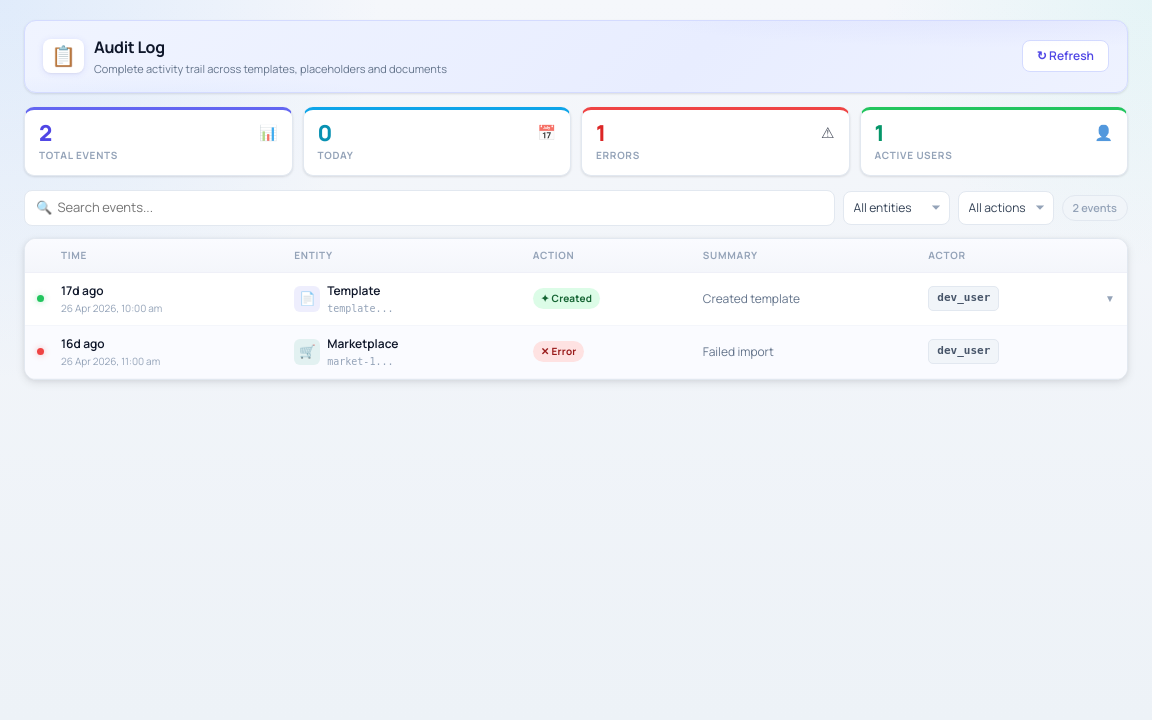
Scenario: AuditLogPage › should_expand_event_details_when_row_has_details
Step 1. Click the text "Created template" → coordinates (751, 298), box [703,290,800,307]
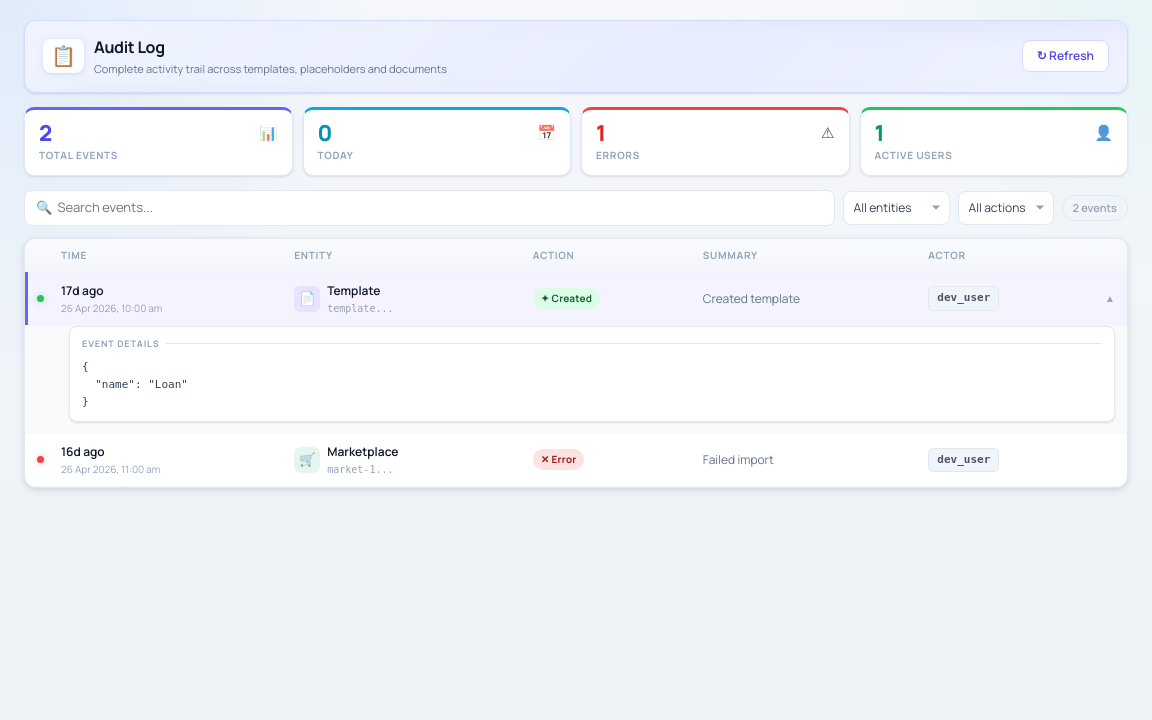
Expected: the text "Event Details" is shown, [82,336,160,350]
